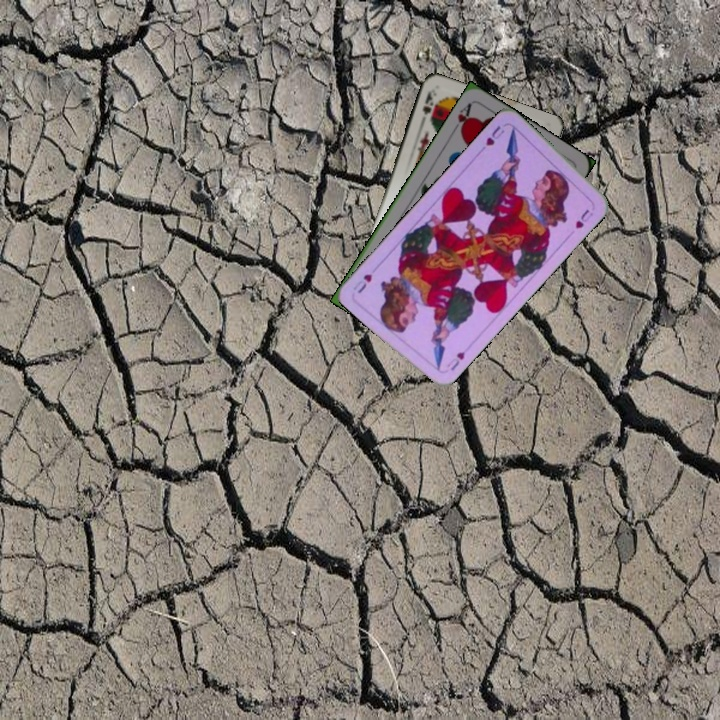HA: (448, 99, 474, 136)
HU: (482, 122, 507, 148), (446, 347, 467, 373)
SK: (416, 86, 440, 127)
